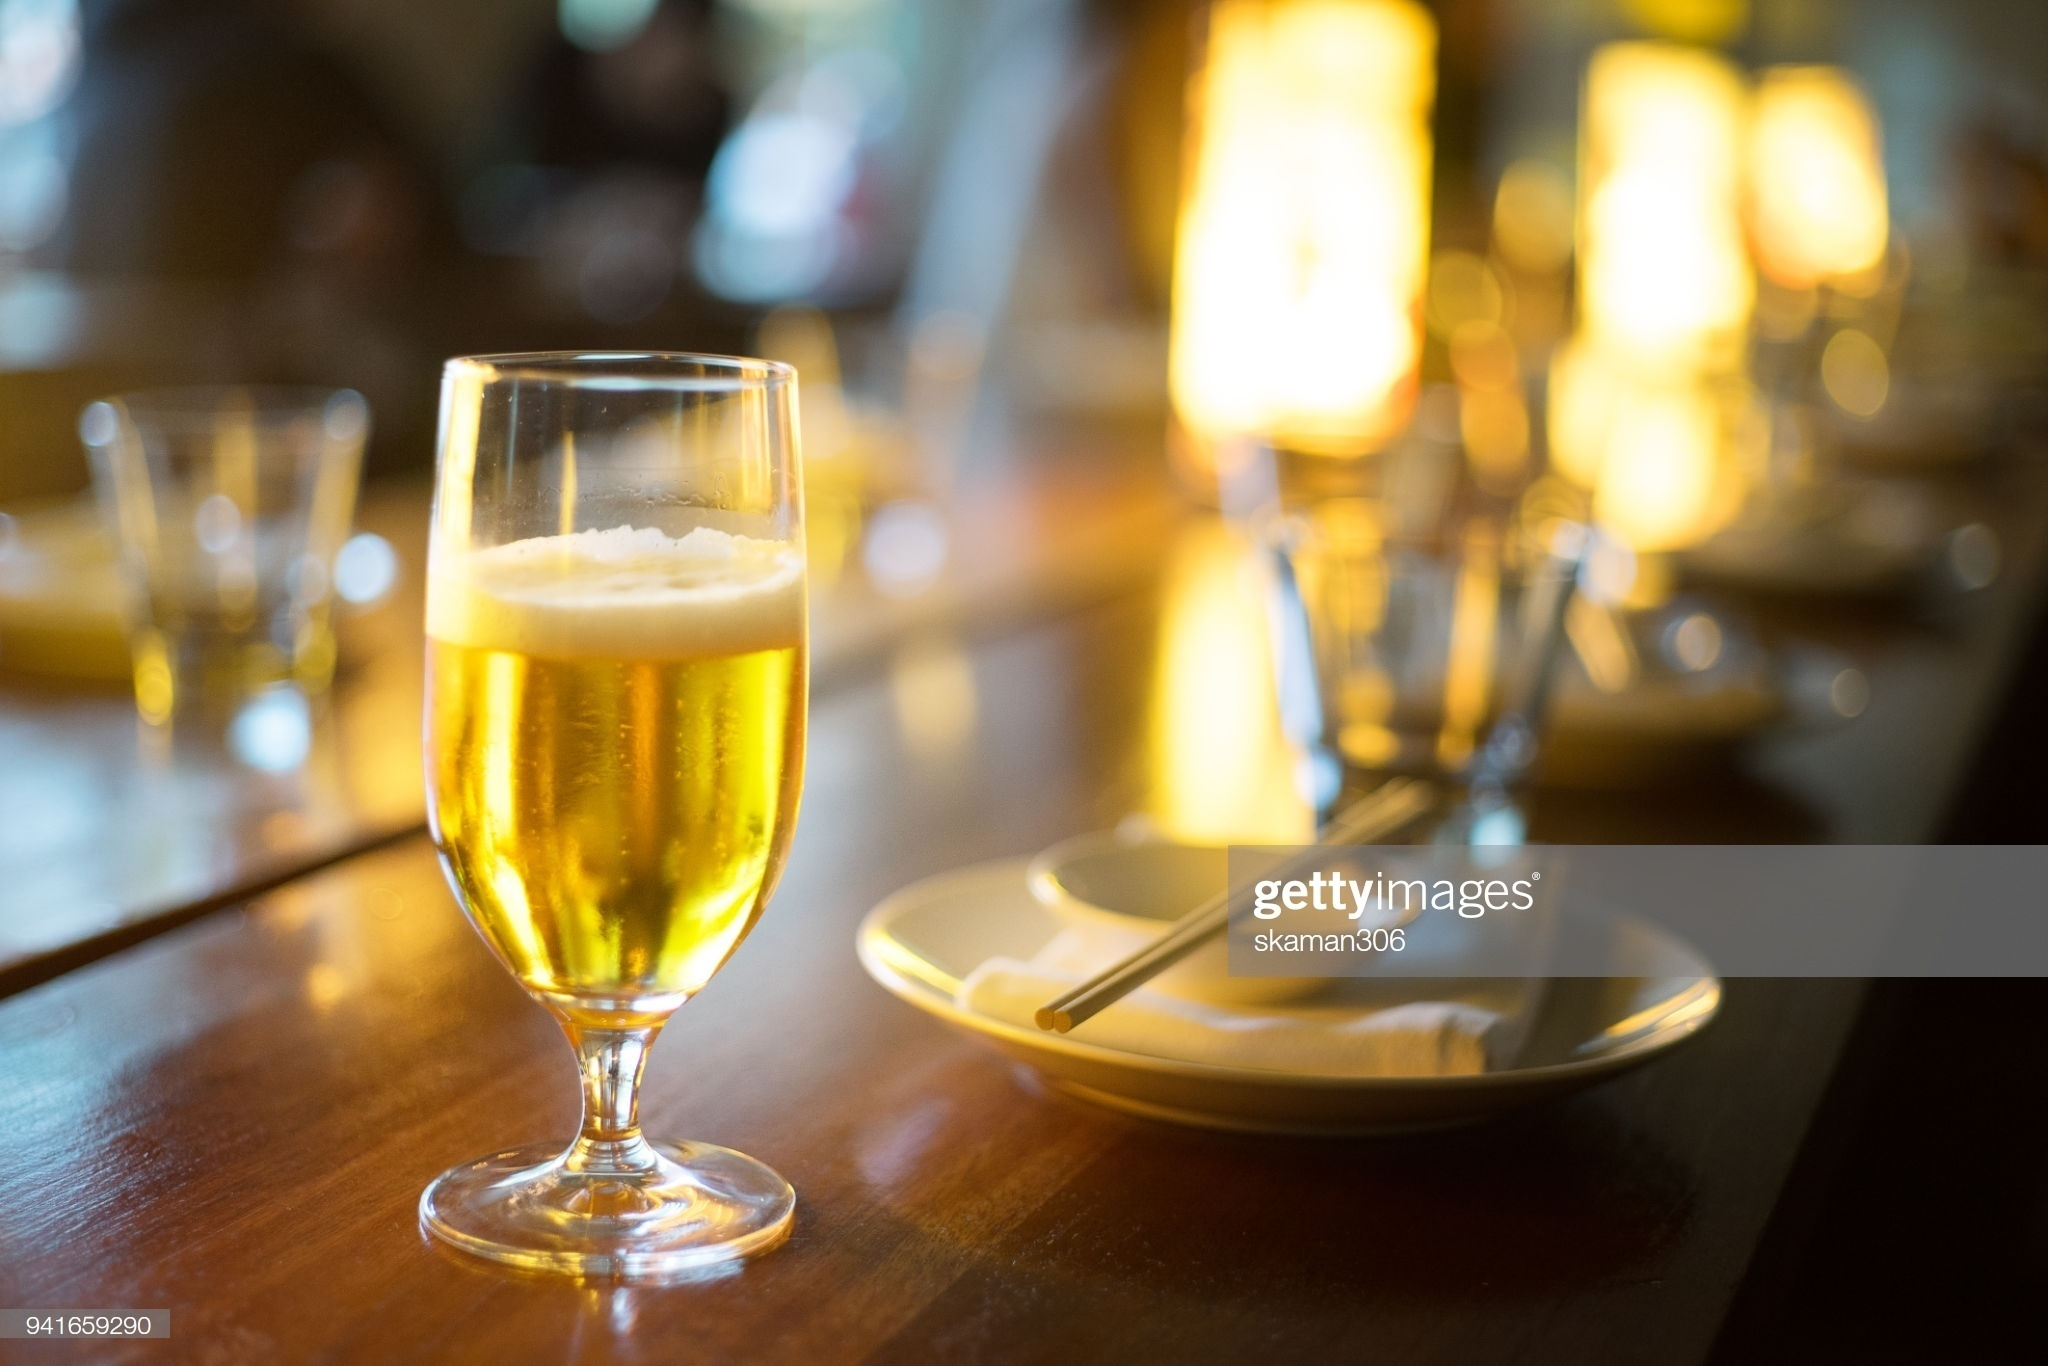whiskey: (399, 332, 805, 1249)
